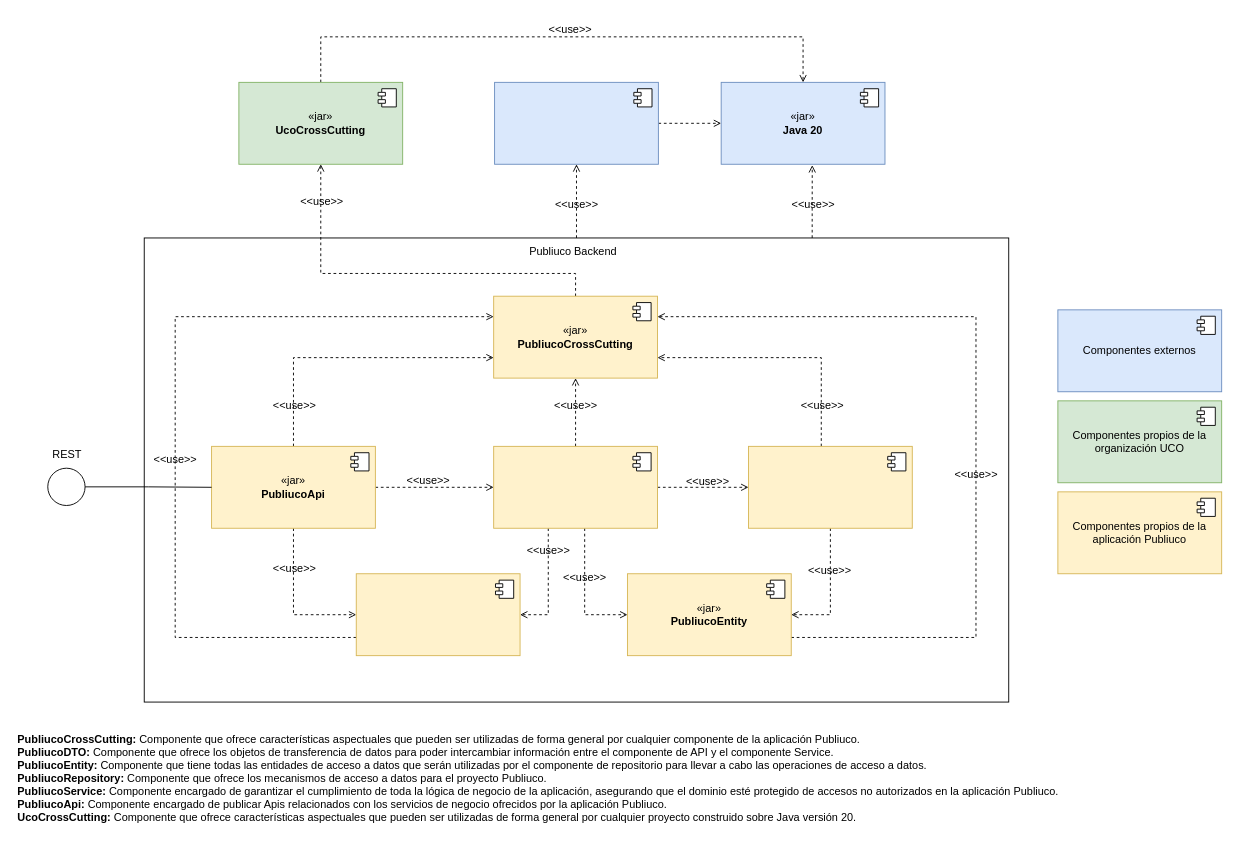
Image size: 1238x844. Some labels were removed from this diagram. Here are the shapes that lost their labels. From the top down, the centre of each, then its label:
point 576,122: «jar» SpringBoot 3.0.6
point 575,486: «jar» Publiuco Service
point 830,486: «jar» Publiuco Repository
point 437,614: «jar» PubliucoDTO
